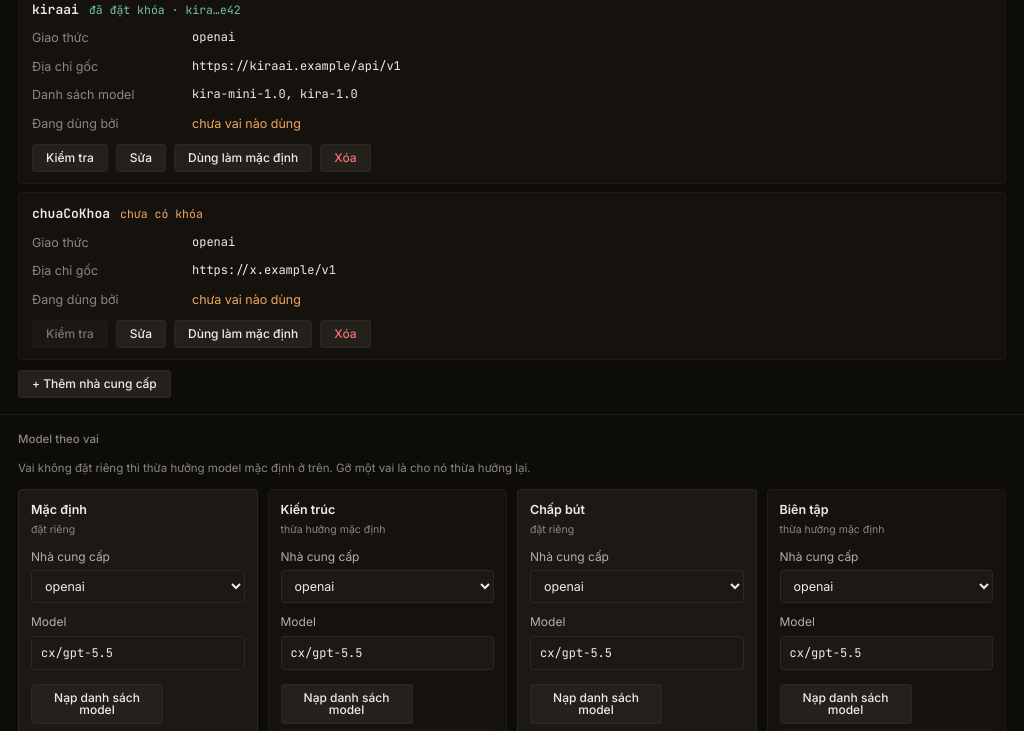
tên chưa ai dùng thì lưu được bình thường
(page scrolled)
Click the button "+ Thêm nhà cung cấp".
click(94, 384)  # box [18, 370, 171, 398]
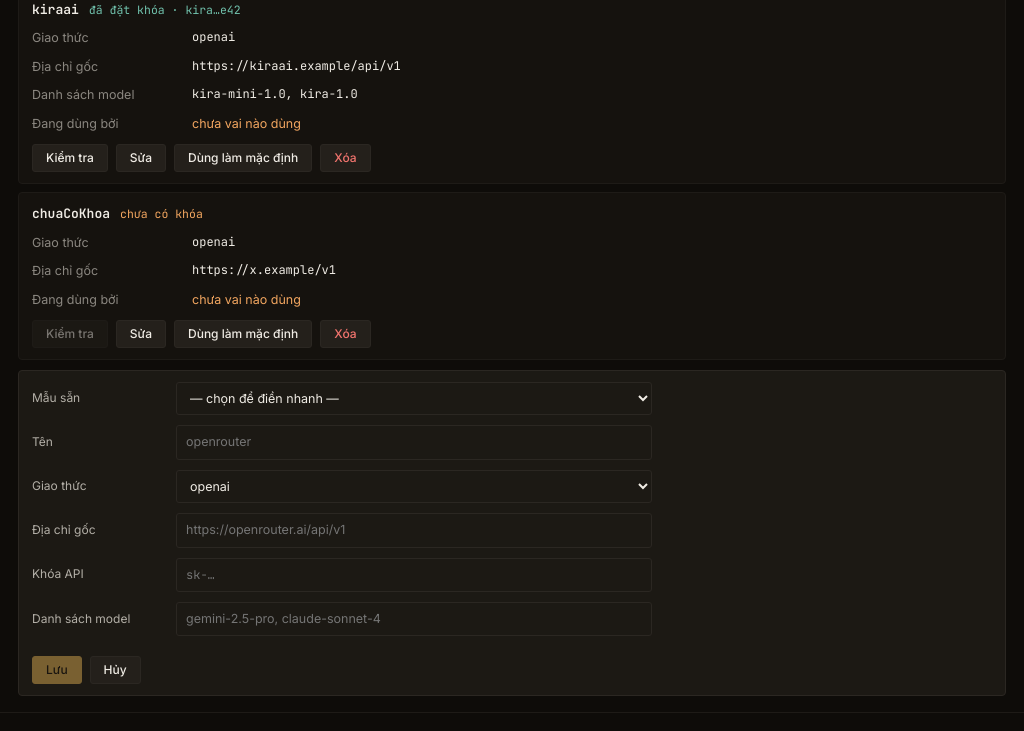
Type "mot-cai-ten-khac" into the field with placeholder "openrouter".
click(414, 443); type("mot-cai-ten-khac")  # box [176, 425, 652, 460]
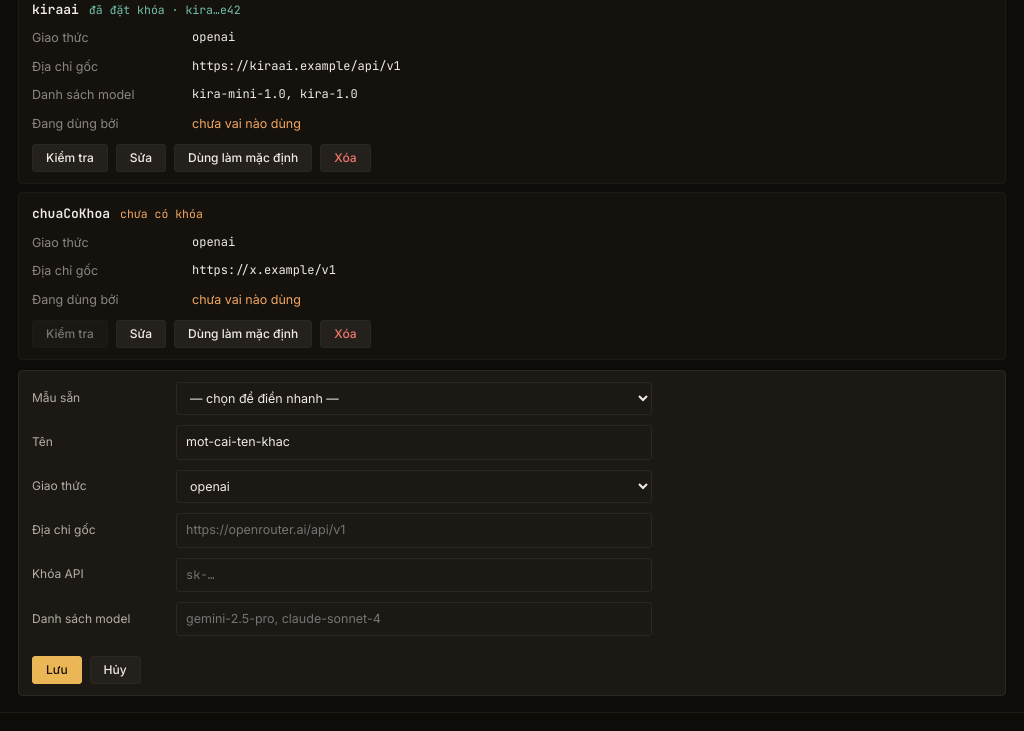
Result: the button "Lưu" is enabled at [32, 656, 82, 684]
